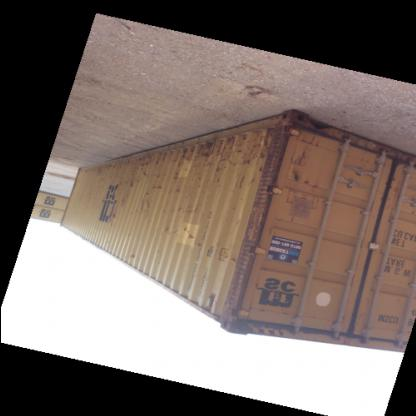Damage: (176, 129, 284, 192), (225, 195, 268, 319), (284, 146, 308, 192), (158, 224, 199, 250), (136, 149, 172, 171), (162, 203, 200, 219), (300, 132, 328, 152), (136, 190, 152, 216), (104, 211, 118, 227), (204, 208, 216, 224), (96, 169, 108, 182), (125, 249, 139, 260), (116, 196, 127, 210), (126, 179, 136, 191), (154, 185, 162, 194)
